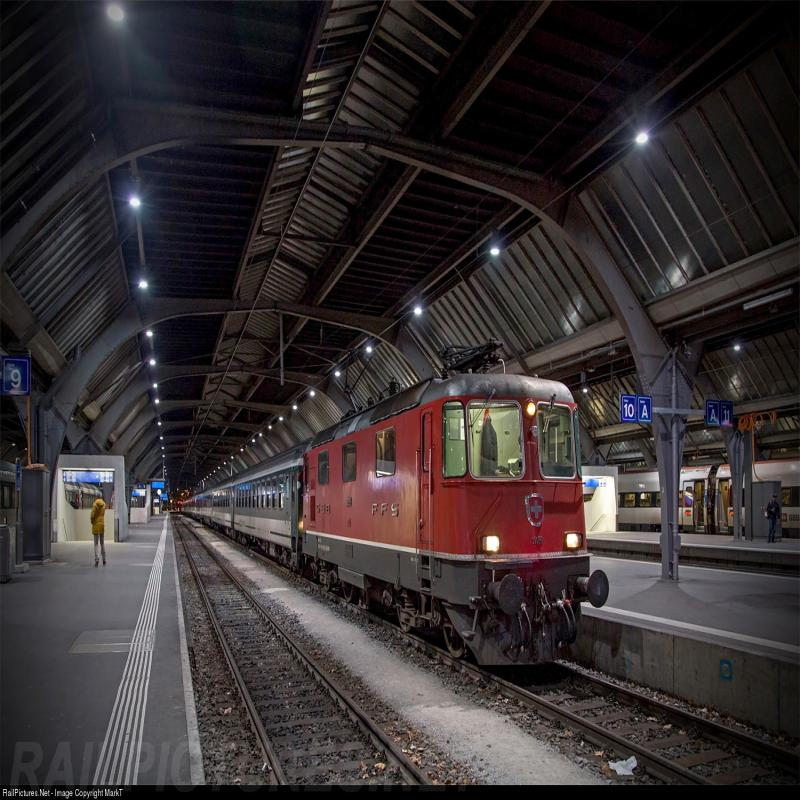train: (221, 391, 602, 660)
